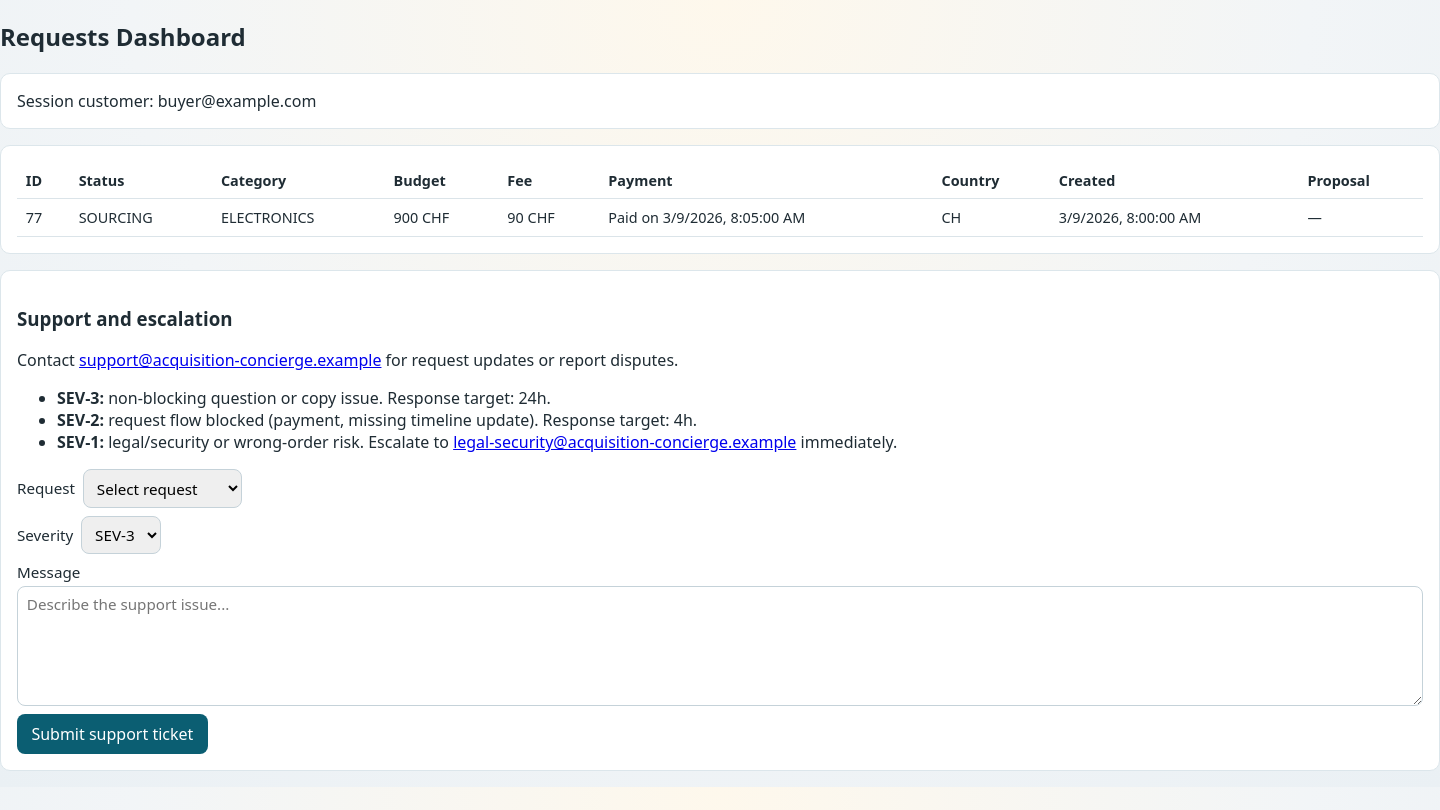
Test: DashboardPage › submits dashboard support ticket with deterministic success copy
The image size is (1440, 810).
Select "#77 (SOURCING)" in the dropdown labelled "Request" at (162, 489), box [83,469,242,508]
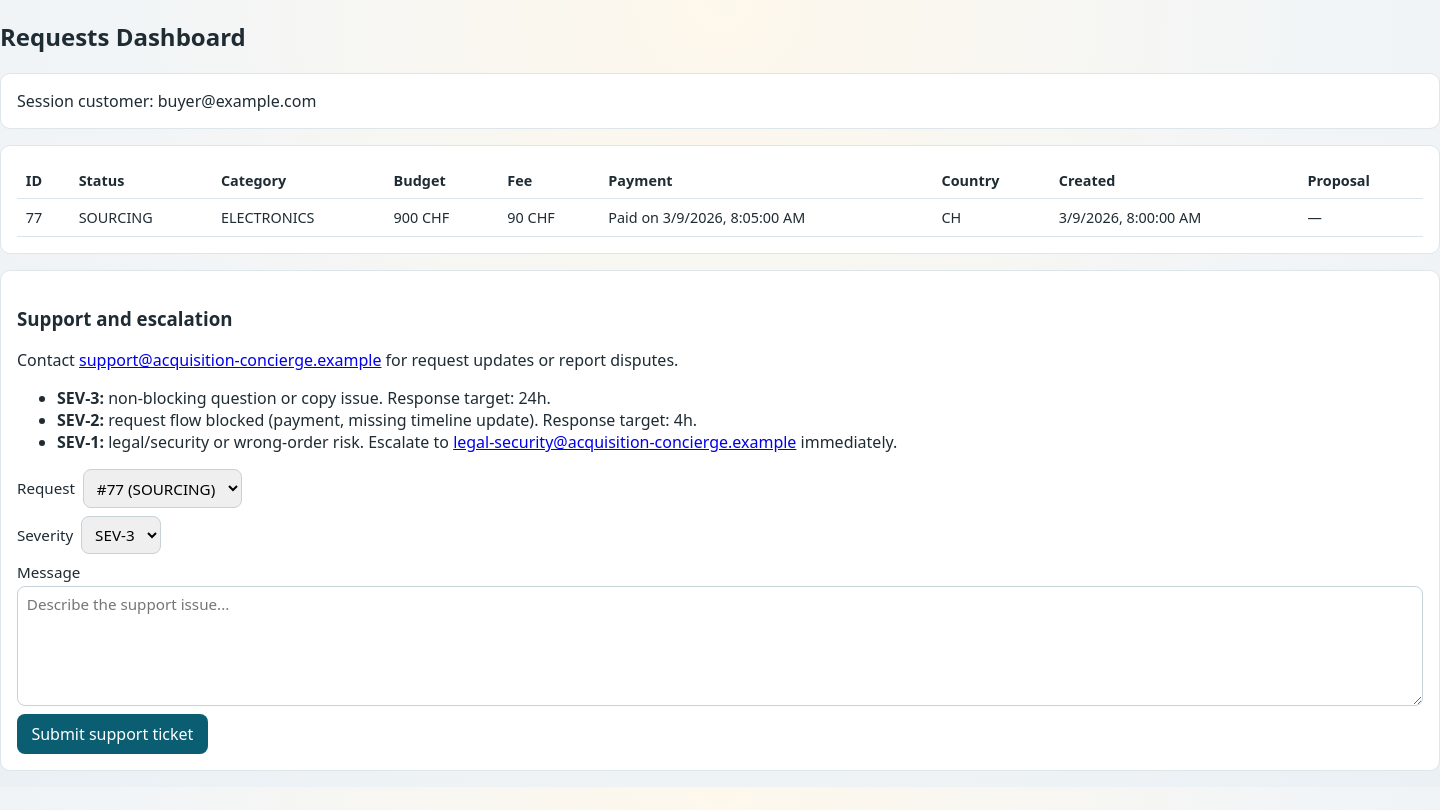
Select "SEV-2" in the dropdown labelled "Severity" at (121, 535), box [81,516,161,554]
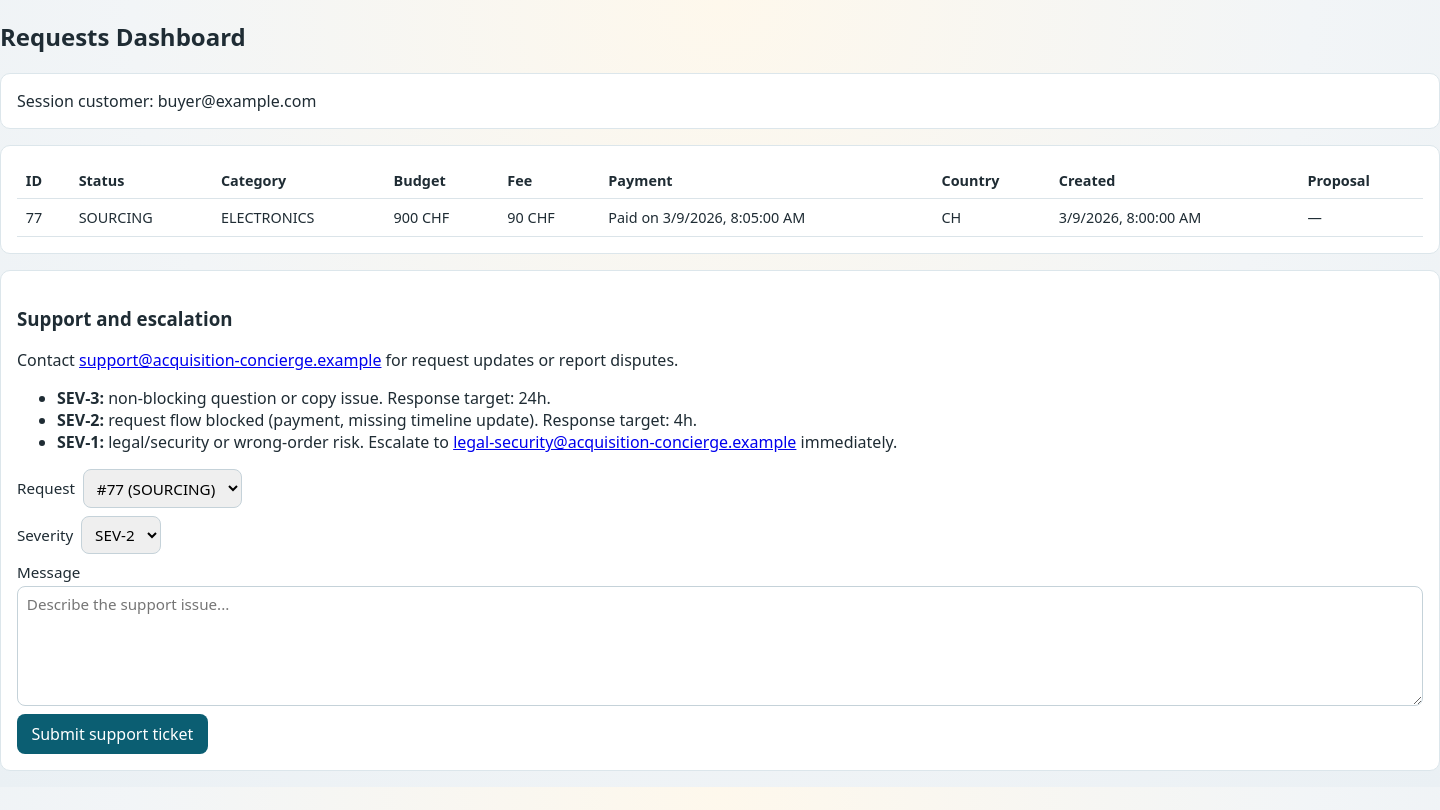
Type "Payment settled but timeline did not update for over one hour." into the text box named "Support message" at (720, 646), box [17,586,1423,706]
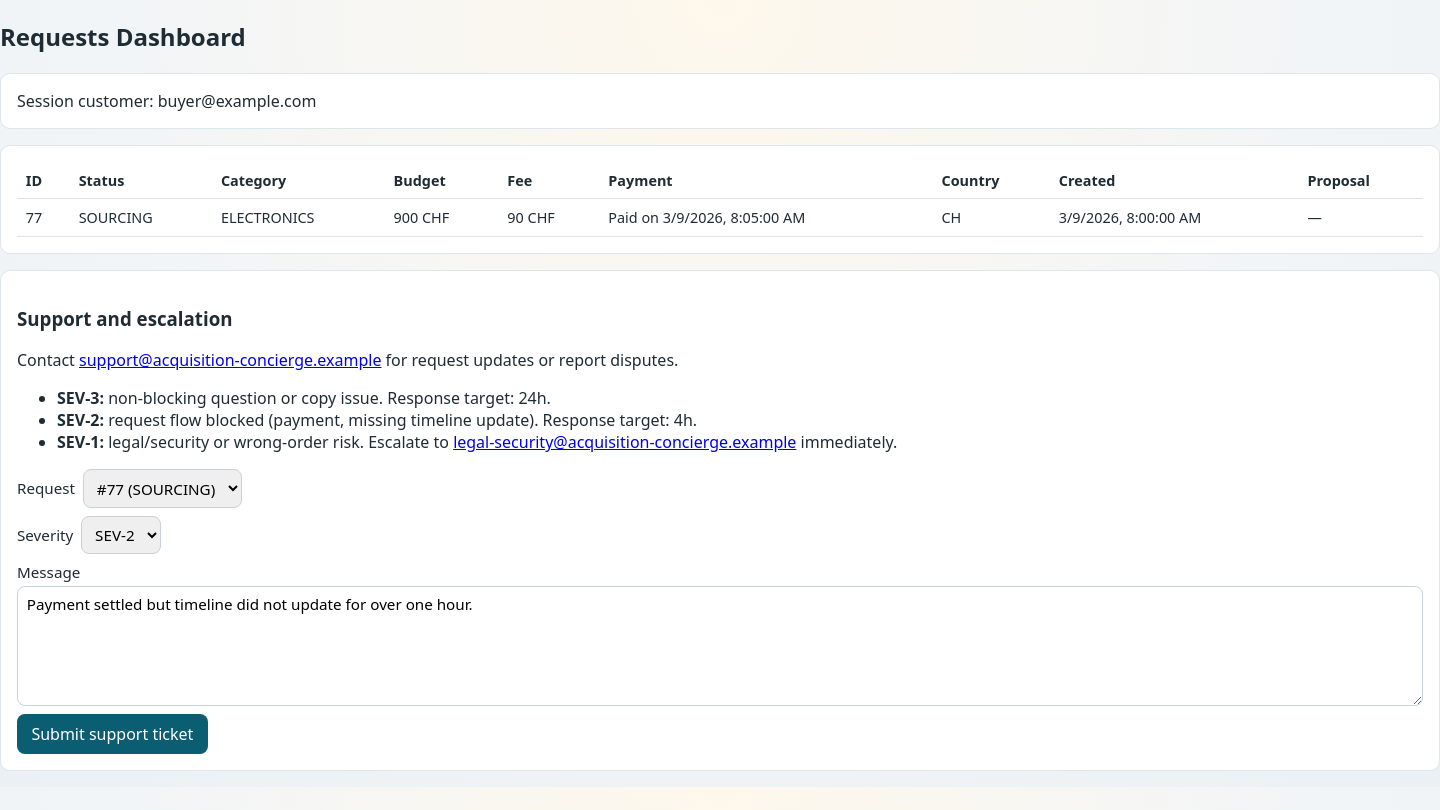
Click the button "Submit support ticket" at (112, 734), box [17,714,208,754]
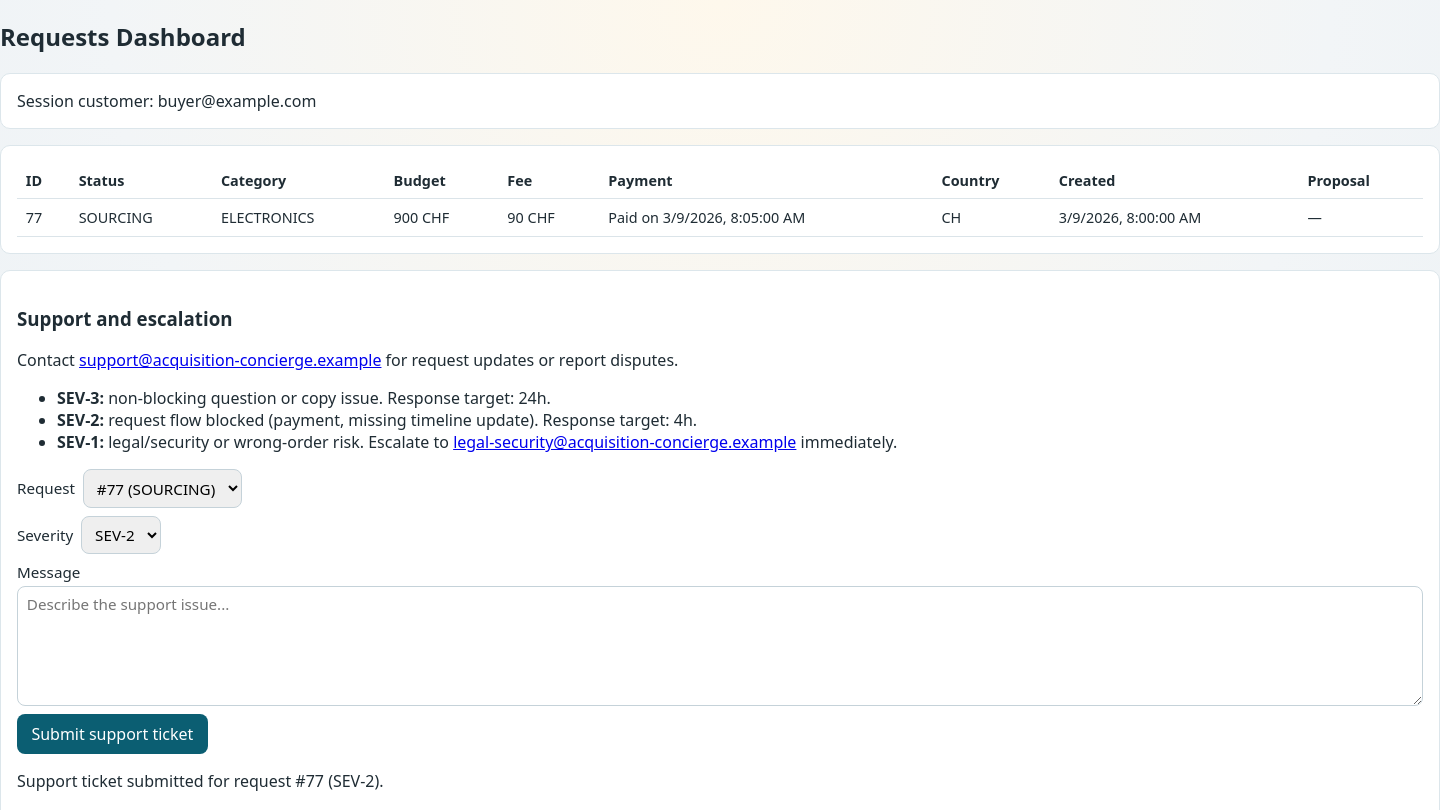
Expected: the text "Support ticket submitted for request #77 (SEV-2)." is shown, [17,770,384,792]
